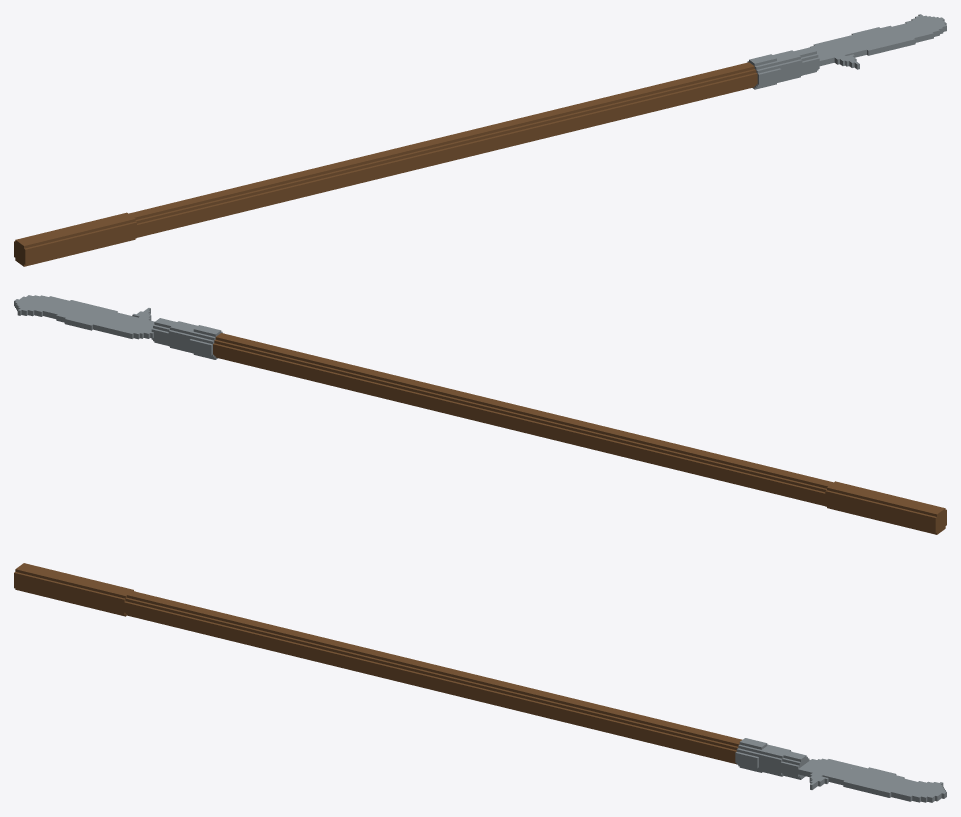
Rendered from brush_axe.glb.
3 views of the same model, one above another, from view 1: azimuth 30°, elevation 25°; view 2: azimuth 150°, elevation 25°; view 3: azimuth 330°, elevation 25° (orthographic).
Visible parts, largest first — view 1: brush_axe:compound; view 2: brush_axe:compound; view 3: brush_axe:compound.
Boxes of the visible parts, x1,y1,x2,y2 form: brush_axe:compound: (14,14,946,266); brush_axe:compound: (14,295,946,534); brush_axe:compound: (14,563,946,802).
Bounding box in the file's own units: 1.5 × 0.04 × 0.1.
